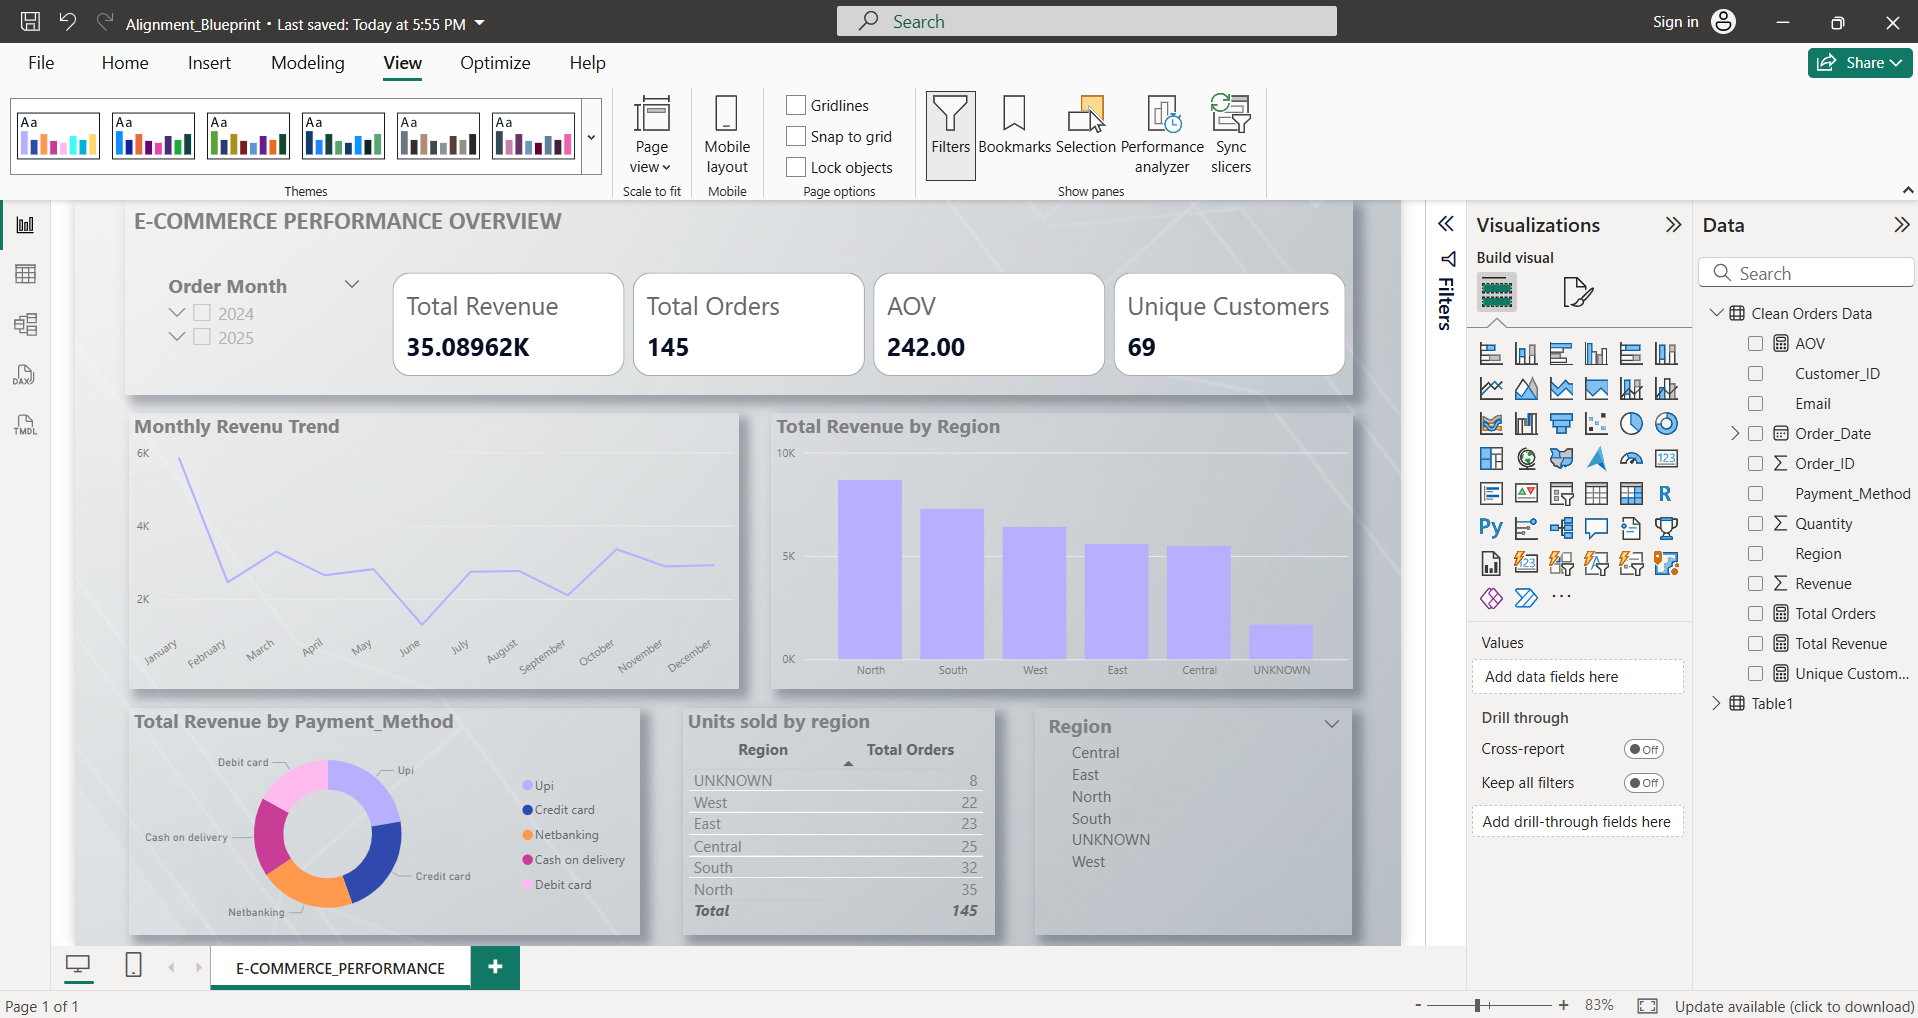

The page's visual inventory and layout, read from the dashboard file:
{"tool":"powerbi","page":{"name":"E-COMMERCE_PERFORMANCE","canvas":[1280,720],"ordinal":0},"visuals":[{"type":"lineChart","title":"Monthly Revenu Trend","fields":{"Y":["Sum(Clean Orders Data.Revenue)"],"Category":["Clean Orders Data.Order_Date.Variation.Date Hierarchy.Month"]},"box":[52.1,204.6,588.7,266.4],"z":0},{"type":"columnChart","fields":{"Category":["Clean Orders Data.Region"],"Y":["Clean Orders Data.Total Revenue"]},"box":[671.7,204.6,561.7,266.4],"z":1000},{"type":"donutChart","fields":{"Category":["Clean Orders Data.Payment_Method"],"Y":["Clean Orders Data.Total Revenue"]},"box":[51.9,489.8,493.4,219.6],"z":2000},{"type":"tableEx","title":"Units sold by region","fields":{"Values":["Clean Orders Data.Region","Clean Orders Data.Total Orders"]},"box":[586.3,489.8,301.6,219.6],"z":3000},{"type":"slicer","title":"r","fields":{"Values":["Clean Orders Data.Region"]},"box":[926.5,489.8,306.4,219.6],"z":4000},{"type":"shape","box":[48.3,0,1185.9,188.2],"z":5000},{"type":"cardVisual","fields":{"Data":["Clean Orders Data.Total Revenue","Clean Orders Data.Total Orders","Clean Orders Data.AOV","Clean Orders Data.Unique Customers"]},"box":[301.1,65.2,931.8,110.4],"z":6000},{"type":"slicer","fields":{"Values":["Clean Orders Data.Order_Date.Variation.Date Hierarchy.Year","Clean Orders Data.Order_Date.Variation.Date Hierarchy.Month"]},"box":[77.2,65.1,209.9,111],"z":7000},{"type":"textbox","box":[51.9,0,470.1,45.2],"z":8000}]}

Visuals, with their boxes on the page's 1280x720 design canvas (x1, y1, x2, y2). These are canvas units, not pixel positions in the 1918x1018 screenshot, which may show the page scaled, cropped or inside an application window:
"Monthly Revenu Trend" lineChart: [left=52, top=205, right=641, bottom=471]
columnChart - Clean Orders Data.Region x Clean Orders Data.Total Revenue: [left=672, top=205, right=1233, bottom=471]
donutChart - Clean Orders Data.Payment_Method x Clean Orders Data.Total Revenue: [left=52, top=490, right=545, bottom=709]
"Units sold by region" tableEx: [left=586, top=490, right=888, bottom=709]
"r" slicer: [left=926, top=490, right=1233, bottom=709]
shape: [left=48, top=0, right=1234, bottom=188]
cardVisual - Clean Orders Data.Total Revenue x Clean Orders Data.Total Orders: [left=301, top=65, right=1233, bottom=176]
slicer - Clean Orders Data.Order_Date.Variation.Date Hierarchy.Year x Clean Orders Data.Order_Date.Variation.Date Hierarchy.Month: [left=77, top=65, right=287, bottom=176]
textbox: [left=52, top=0, right=522, bottom=45]
